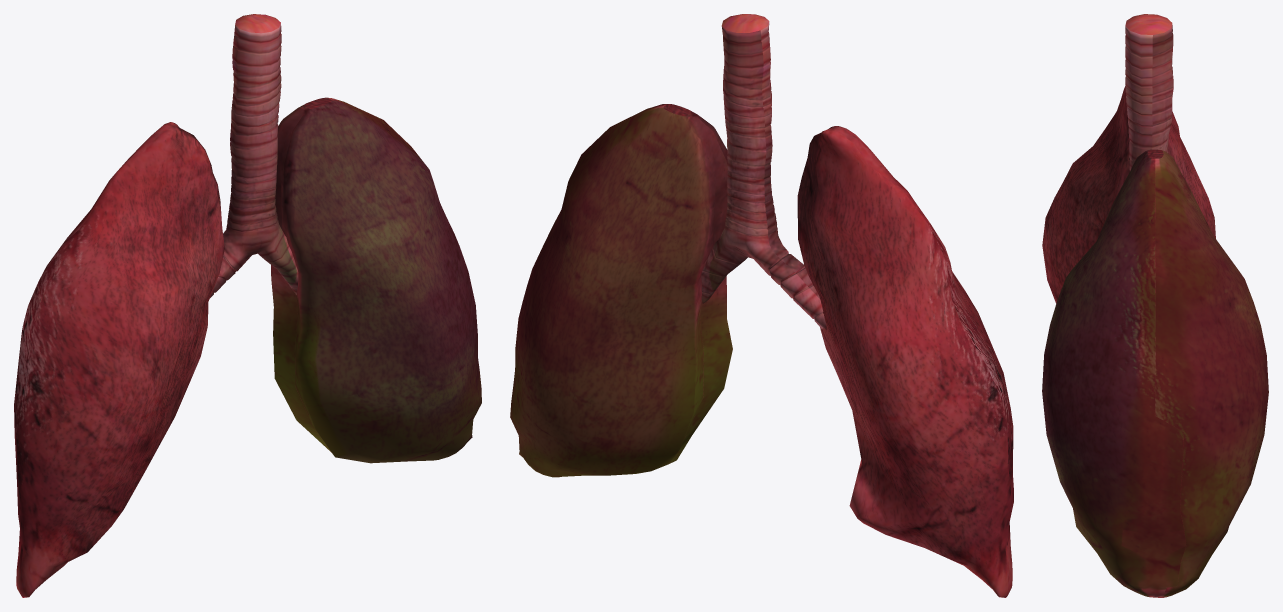
The model's file is Lung.fbx.
The picture shows the model from 3 angles, left to right: view 1: azimuth 30°, elevation 25°; view 2: azimuth 150°, elevation 25°; view 3: azimuth 270°, elevation 25°; orthographic projection. The views are drawn at different scales.
Visible parts, largest first — view 1: Object008; view 2: Object008; view 3: Object008.
Boxes of the visible parts, bbox=[...] form: Object008: bbox=[14, 14, 481, 597]; Object008: bbox=[510, 14, 1013, 597]; Object008: bbox=[1042, 14, 1268, 597].
Size of the model in its own units: 4.44 by 4.7 by 1.87.
Materials: 1 (1 with a texture image).
